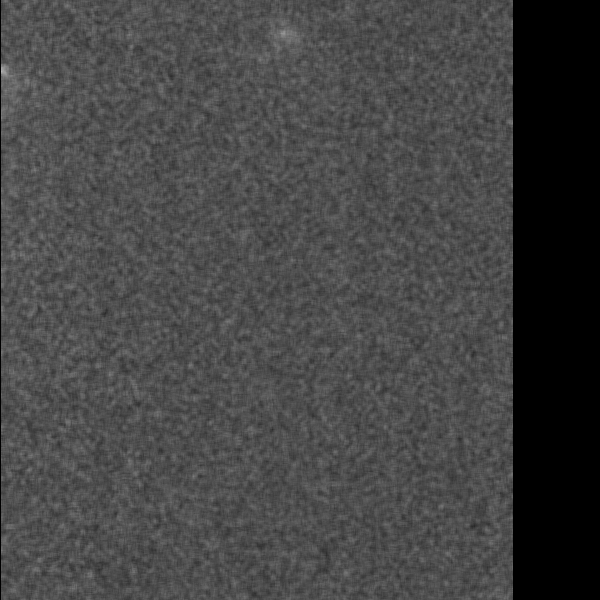spark: (267, 18, 297, 50)
